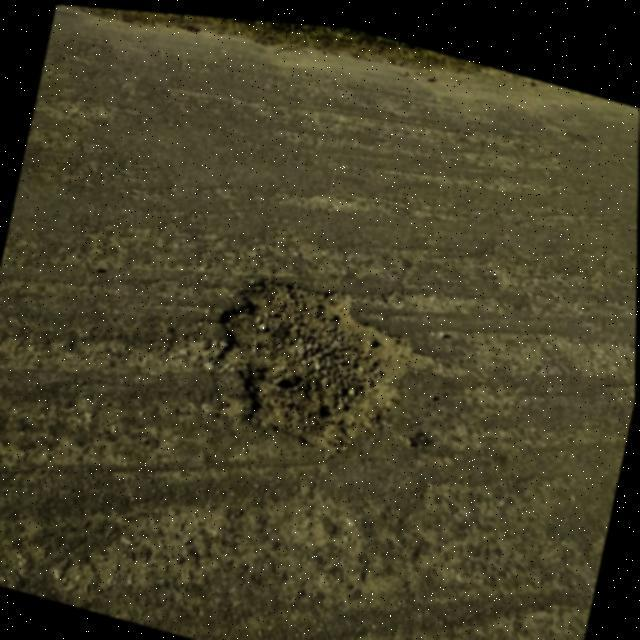pothole: (197, 254, 431, 471)
